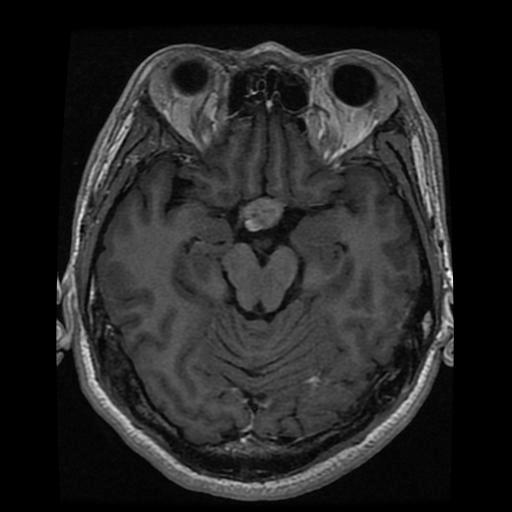Tumour-Pituitary: (237, 197, 286, 235)
